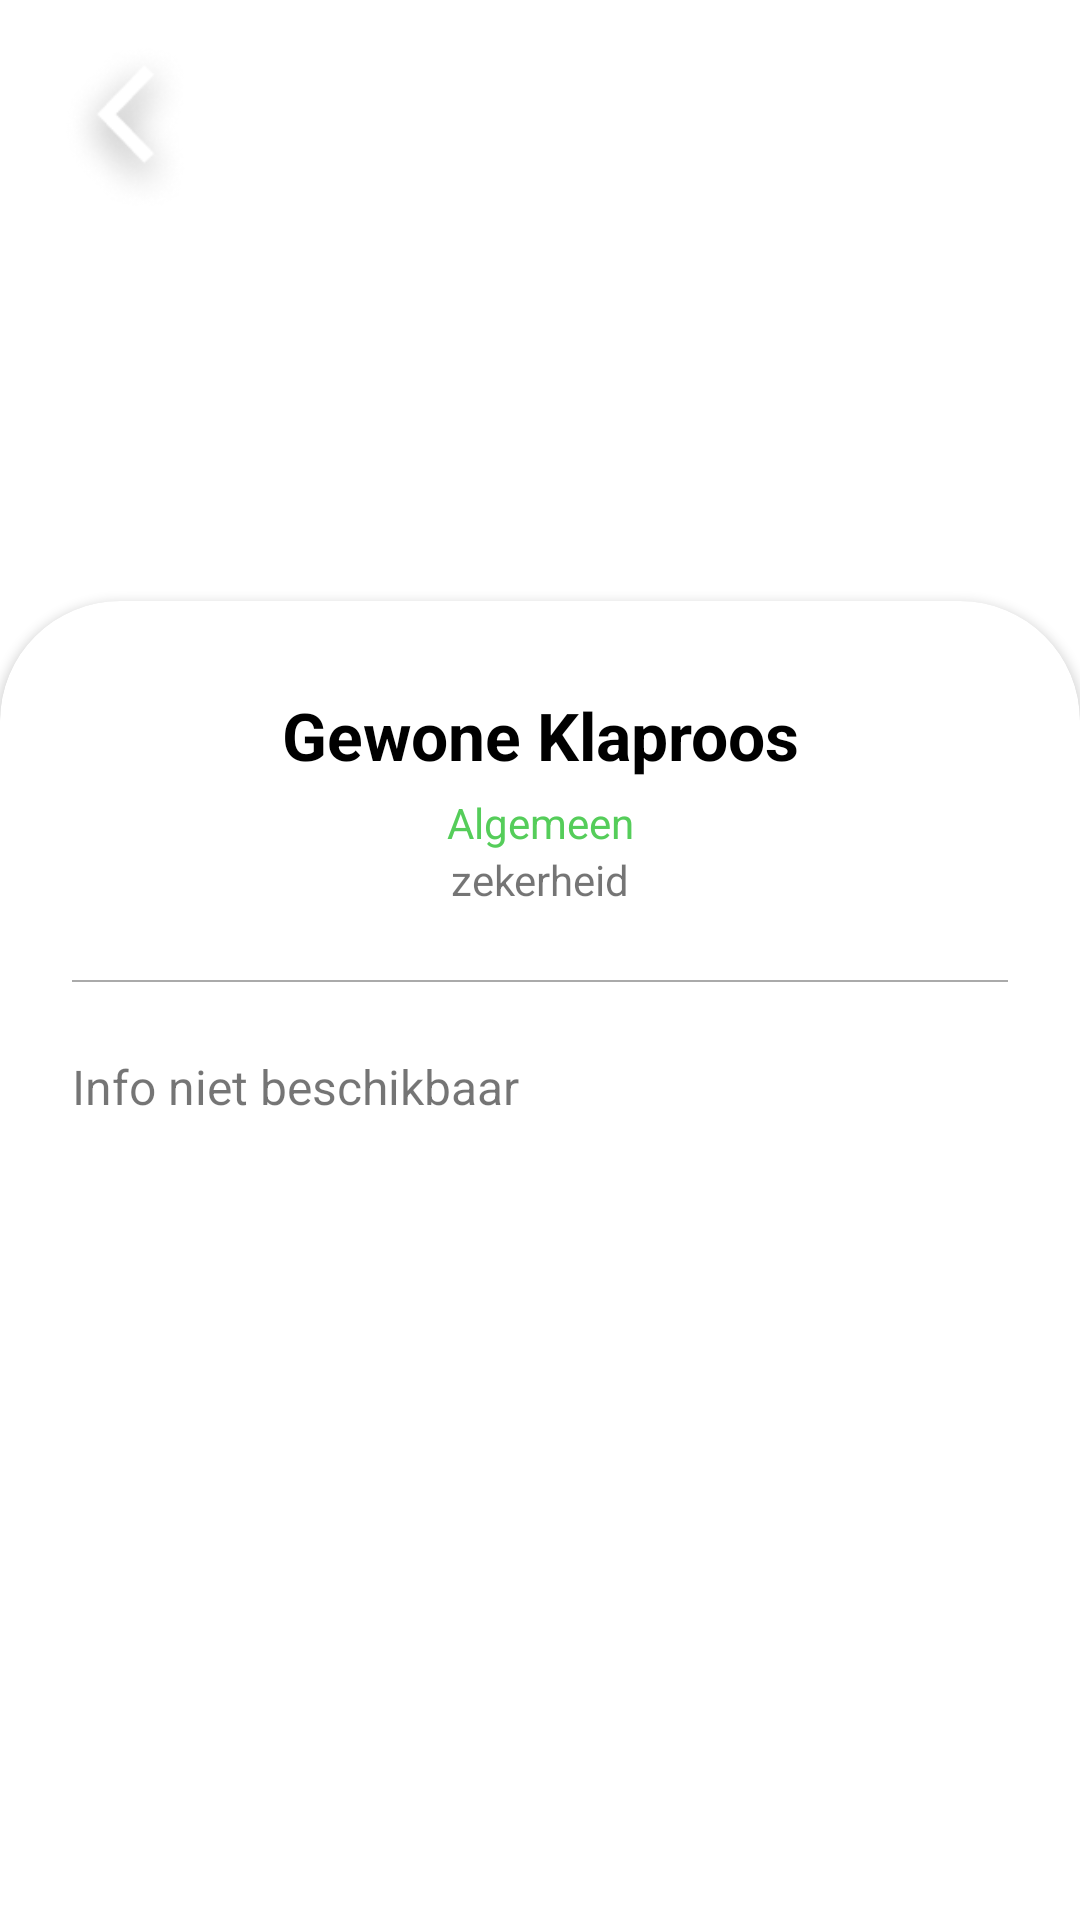

Icons on this 1080px x 1920px Android screen, each with its box as detection(x1, y1, x2, y2):
back: detection(100, 93, 142, 163)
